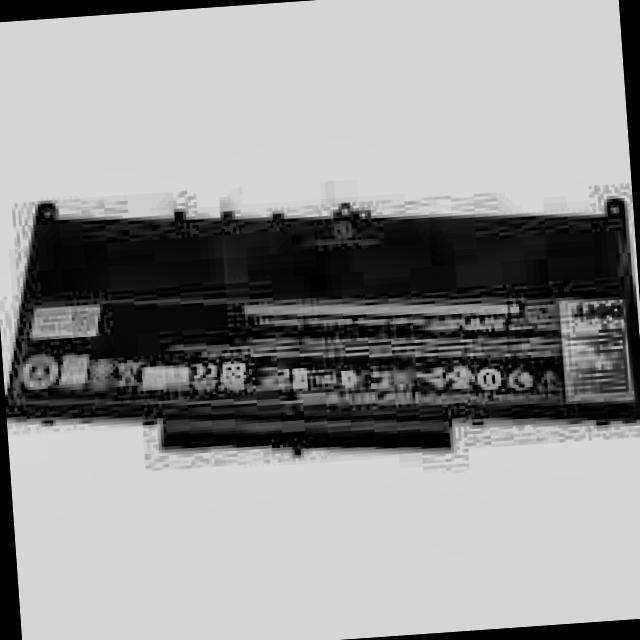Battery: (0, 162, 640, 471)
